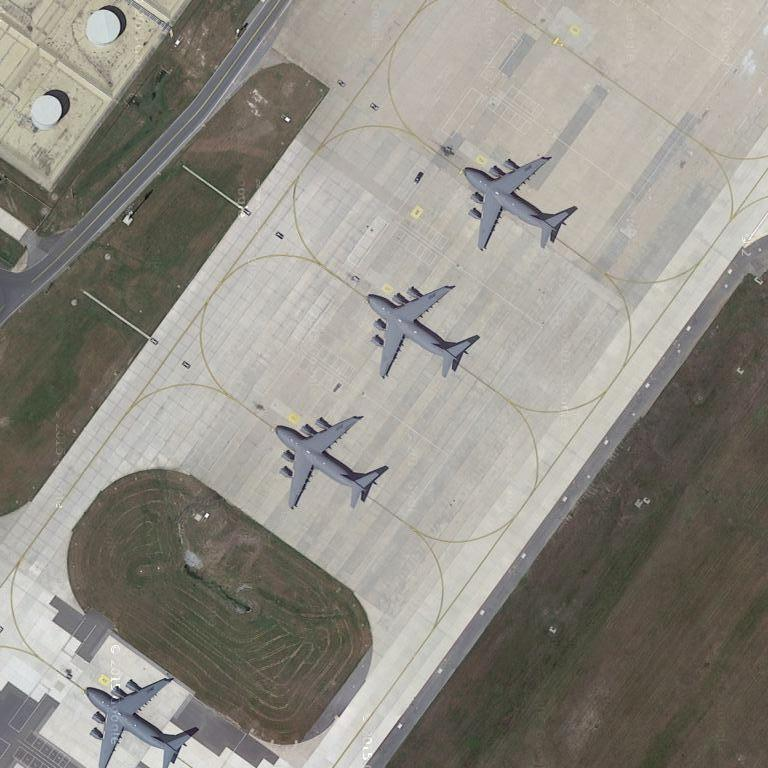C-17: (455, 145, 578, 256), (268, 411, 391, 509), (365, 278, 476, 384), (87, 672, 202, 768)
